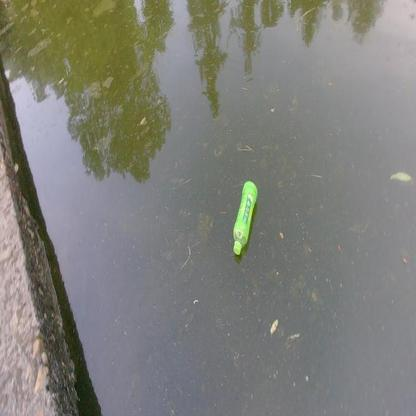plastic bottle: (232, 180, 257, 255)
